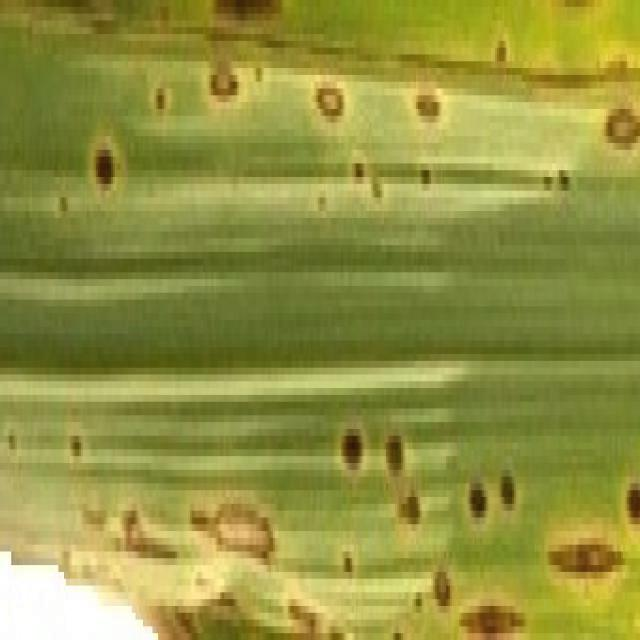Brownspot: (209, 503, 274, 561), (548, 539, 622, 577), (122, 509, 177, 559), (460, 604, 523, 639), (604, 107, 639, 149), (287, 600, 319, 637), (209, 65, 238, 100), (315, 85, 343, 119), (93, 146, 114, 189), (340, 429, 362, 470), (398, 493, 421, 526), (415, 92, 440, 121), (385, 434, 403, 474), (174, 608, 197, 639), (468, 482, 487, 519), (433, 569, 450, 608), (626, 482, 639, 524), (500, 473, 515, 509), (82, 508, 105, 528), (494, 39, 507, 64), (154, 87, 166, 112), (69, 434, 81, 458), (371, 177, 383, 200), (342, 552, 353, 575), (557, 170, 569, 190), (352, 161, 364, 181), (420, 167, 432, 186), (57, 195, 68, 213), (328, 628, 344, 639), (7, 432, 16, 451), (413, 593, 422, 610), (543, 175, 553, 190), (393, 630, 402, 639)
